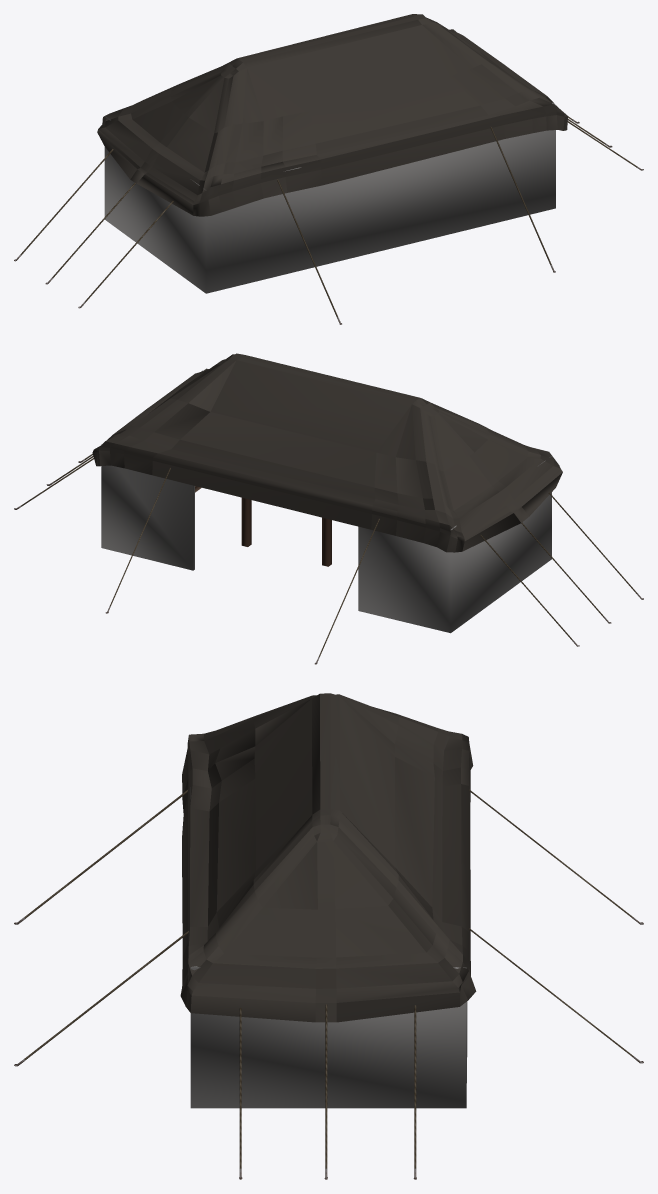
File: tent-large.lod1.glb
The picture shows the model from 3 angles, top to bottom: view 1: azimuth 30°, elevation 25°; view 2: azimuth 150°, elevation 25°; view 3: azimuth 270°, elevation 25°; orthographic projection. The views are drawn at different scales.
Parts seen in each view (by area): view 1: defaultMaterial (×2); view 2: defaultMaterial (×2); view 3: defaultMaterial (×2).
Boxes of the visible parts, x1,y1,x2,y2 form: defaultMaterial (×2): (14,14,643,324); defaultMaterial (×2): (14,353,643,664); defaultMaterial (×2): (14,693,643,1179).
Bounding box in the file's own units: 10 × 3.18 × 7.09.
3 materials, 2 textured.
